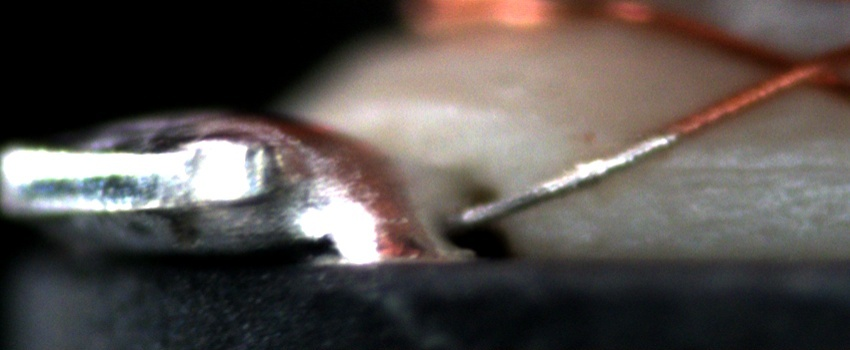CL: (754, 40, 834, 98)
DL: (639, 139, 850, 203)
TS: (447, 131, 677, 229)
